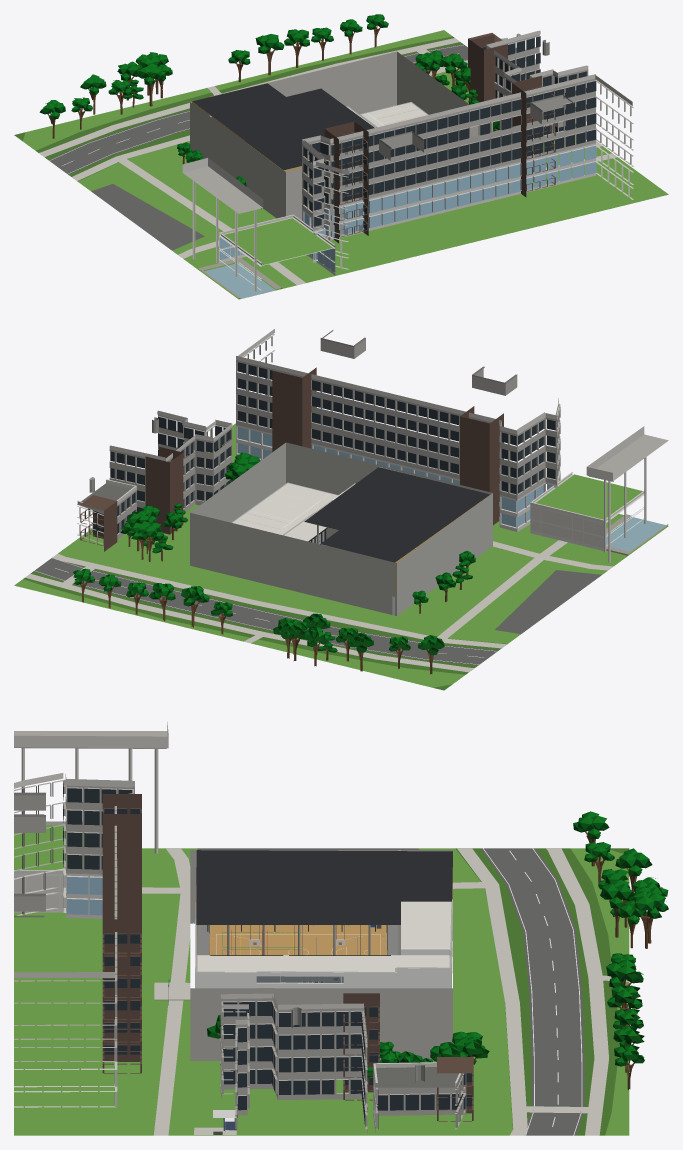
The model's file is gym.fbx.
3 renders of one model, top to bottom at view 1: azimuth 30°, elevation 25°; view 2: azimuth 150°, elevation 25°; view 3: azimuth 270°, elevation 25°, orthographic. The views are drawn at different scales.
Parts seen in each view (by area): view 1: ext_gym, wall_gym, ext_gym_trees; view 2: ext_gym, wall_gym, ext_gym_trees; view 3: ext_gym, wall_gym, ext_gym_trees, floor_gym.
Part boxes in pixels (bbox=[...]): ext_gym: bbox=[14, 30, 668, 299]; wall_gym: bbox=[190, 51, 492, 220]; ext_gym_trees: bbox=[39, 14, 499, 186]; ext_gym: bbox=[14, 329, 668, 690]; wall_gym: bbox=[190, 442, 492, 615]; ext_gym_trees: bbox=[73, 452, 475, 674]; ext_gym: bbox=[14, 722, 629, 1135]; wall_gym: bbox=[190, 850, 452, 1060]; ext_gym_trees: bbox=[207, 811, 668, 1090]; floor_gym: bbox=[209, 925, 452, 982].
Size of the model in its own units: 116 by 29.72 by 111.
